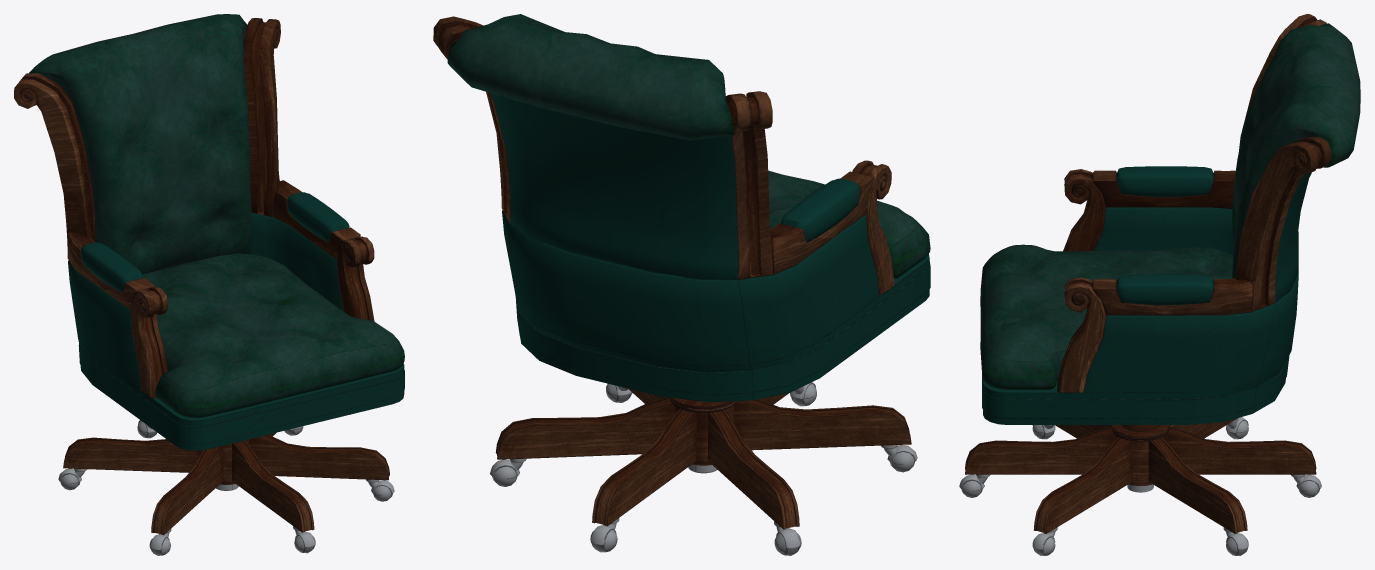
Rendered from SM_Silla_Escritorio 1.fbx.
3 renders of one model, left to right at view 1: azimuth 30°, elevation 25°; view 2: azimuth 150°, elevation 25°; view 3: azimuth 270°, elevation 25°, orthographic. The views are drawn at different scales.
Visible parts, largest first — view 1: Pie de silla; view 2: Pie de silla; view 3: Pie de silla.
Part boxes in pixels (x1,y1,x2,y2): Pie de silla: (14, 14, 404, 555); Pie de silla: (433, 14, 930, 555); Pie de silla: (959, 14, 1360, 555).
Bounding box in the file's own units: 105 × 152 × 128.
